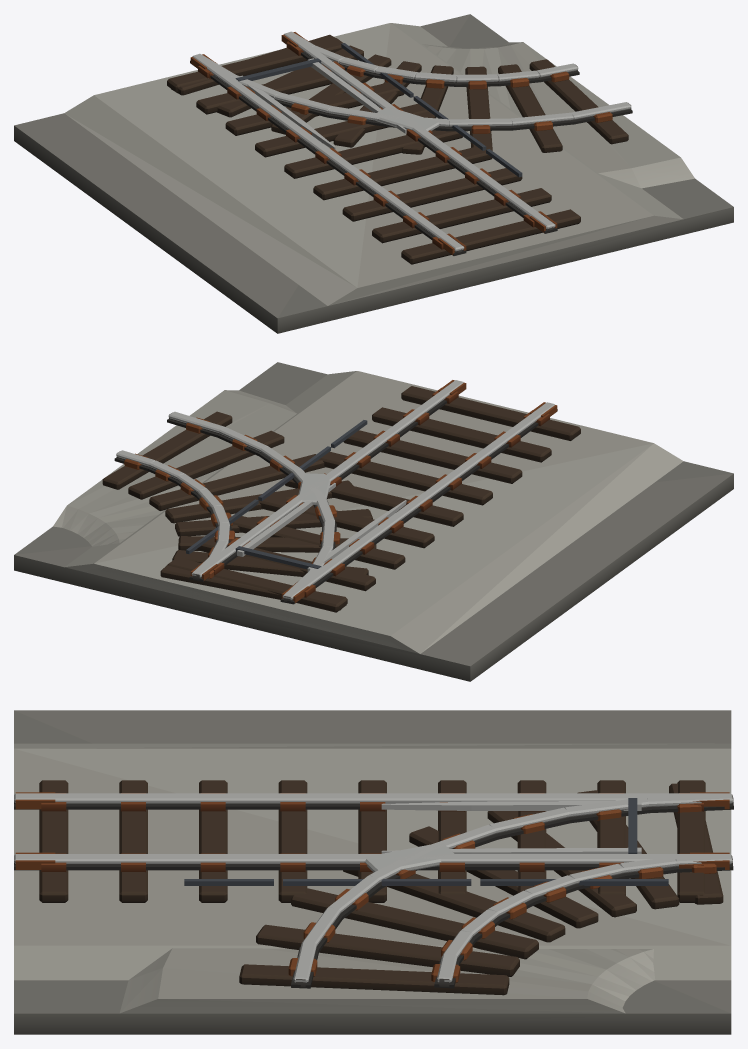
File: track-t-junction-tile.glb
3 views of the same model, one above another, from view 1: azimuth 30°, elevation 25°; view 2: azimuth 150°, elevation 25°; view 3: azimuth 270°, elevation 25° (orthographic). The views are drawn at different scales.
Visible parts, largest first — view 1: track_t_junction_tile; view 2: track_t_junction_tile; view 3: track_t_junction_tile.
Part boxes in pixels (<box>): track_t_junction_tile: <box>14,14,733,333</box>; track_t_junction_tile: <box>14,362,733,681</box>; track_t_junction_tile: <box>14,710,733,1034</box>.
Size of the model in its own units: 4.01 by 0.3551 by 4.01.
